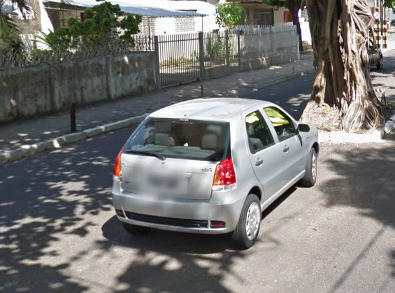car: (110, 80, 325, 249)
